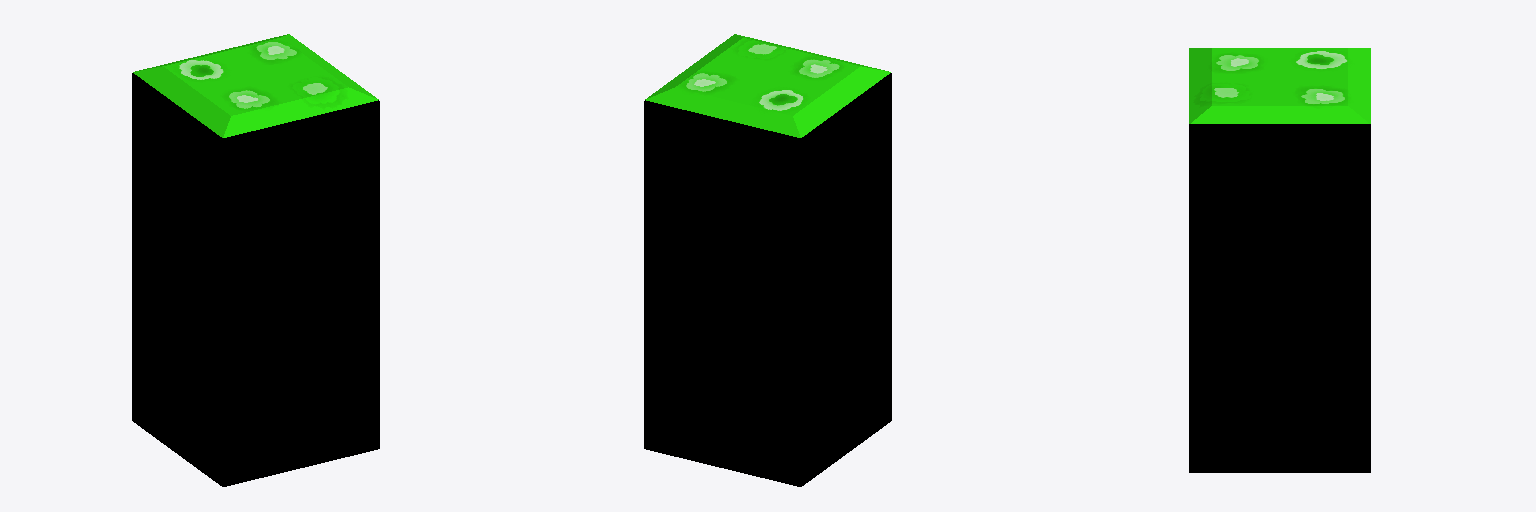
The picture shows the model from 3 angles: view 1: azimuth 30°, elevation 25°; view 2: azimuth 150°, elevation 25°; view 3: azimuth 270°, elevation 25°; orthographic projection.
Visible parts, largest first — view 1: polySurface8; view 2: polySurface8; view 3: polySurface8.
Part boxes in pixels (bbox=[...]): polySurface8: bbox=[132, 34, 379, 486]; polySurface8: bbox=[644, 34, 891, 486]; polySurface8: bbox=[1189, 48, 1370, 472].
Bounding box in the file's own units: 400 × 873 × 400.
Materials: 2 (1 with a texture image).